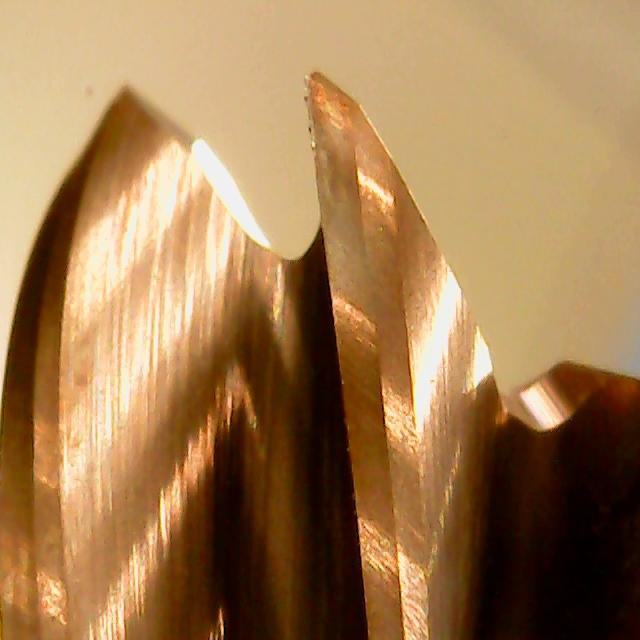Tool-wear-class-0: (296, 67, 426, 423)
